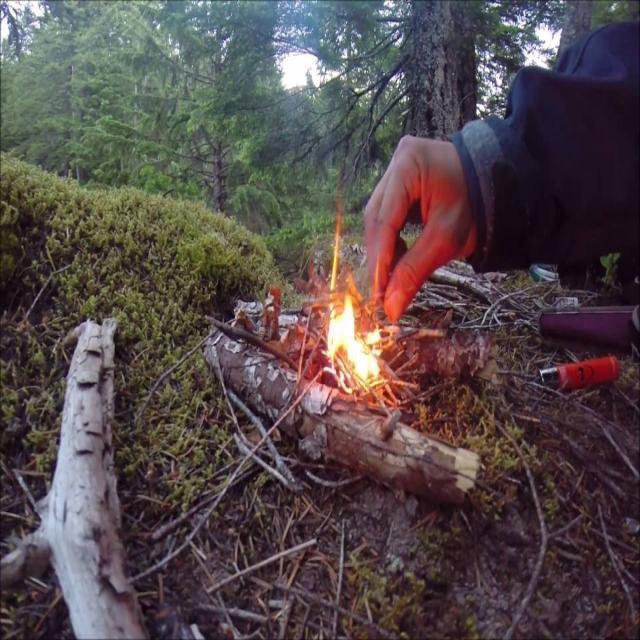Fire: (320, 289, 387, 397)
